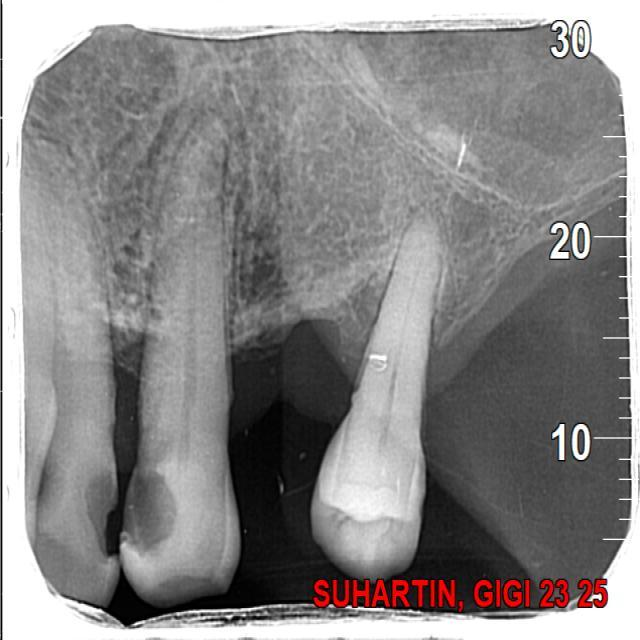individual-tooth-8tto: (115, 112, 244, 607), (312, 219, 439, 573)
